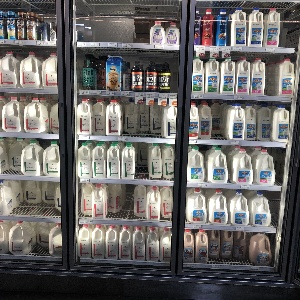void: (77, 5, 150, 42), (280, 9, 298, 48)
